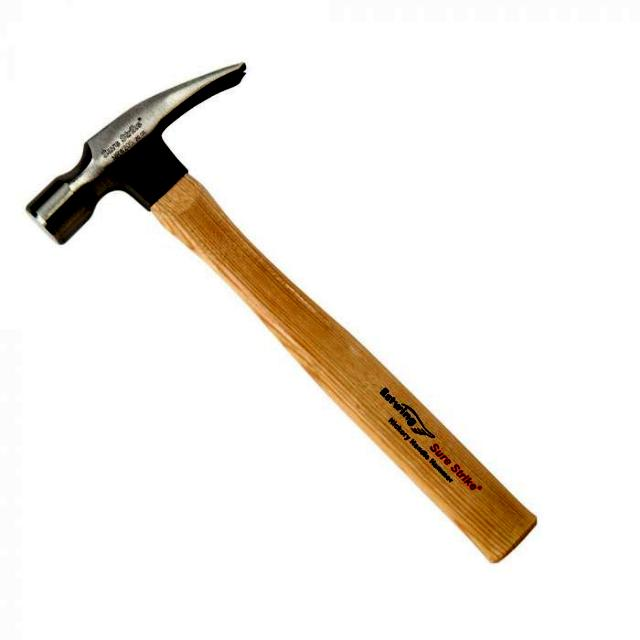hammer: (17, 55, 546, 573)
